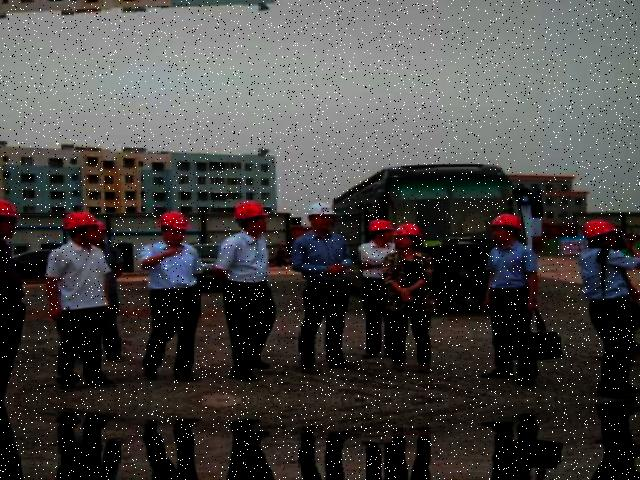Helmet: (56, 206, 102, 238), (574, 214, 620, 244), (153, 206, 191, 237), (485, 209, 525, 237), (229, 199, 269, 226), (299, 199, 337, 224), (390, 218, 423, 242), (364, 212, 394, 237)
